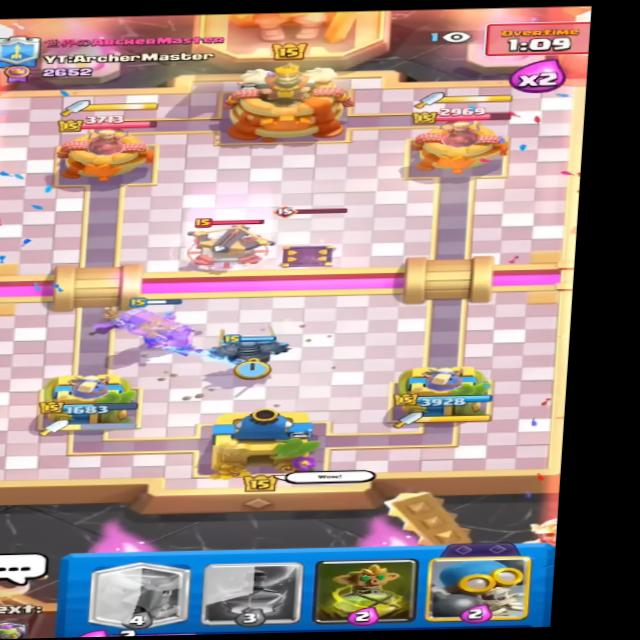Evoteslahidden: (259, 206, 355, 272)
Xbow: (176, 215, 274, 271)
